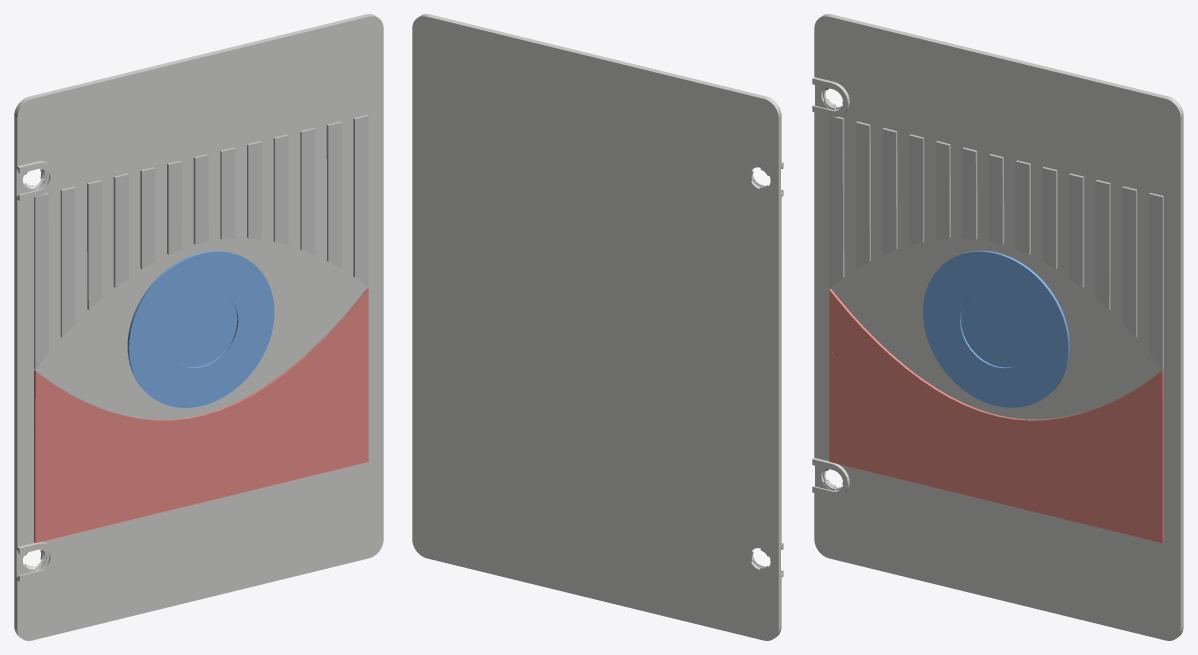
Rendered from a5_only_cover_v3.glb.
The picture shows the model from 3 angles, left to right: view 1: azimuth 30°, elevation 25°; view 2: azimuth 150°, elevation 25°; view 3: azimuth 330°, elevation 25°; orthographic projection.
Visible parts, largest first — view 1: Body1 (1).001, Body13, Body16, Body15, Body4 (1).001, Body11, Body8, Body1 (4), Body12, Body5, Body7, Body3 (1).001 (+4 smaller); view 2: Body1 (1).001; view 3: Body1 (1).001, Body13, Body16, Body4 (1).001, Body15, Body8, Body11, Body1 (4), Body12, Body7, Body5, Body14 (+4 smaller).
Boxes of the visible parts, bbox=[...] form: Body1 (1).001: bbox=[14, 14, 383, 640]; Body13: bbox=[34, 288, 368, 542]; Body16: bbox=[127, 250, 274, 407]; Body15: bbox=[353, 115, 368, 288]; Body4 (1).001: bbox=[34, 193, 48, 369]; Body11: bbox=[60, 186, 75, 337]; Body8: bbox=[326, 121, 341, 268]; Body1 (4): bbox=[300, 128, 315, 254]; Body12: bbox=[87, 180, 102, 309]; Body5: bbox=[113, 173, 128, 287]; Body7: bbox=[273, 134, 288, 245]; Body3 (1).001: bbox=[140, 167, 155, 268]; Body1 (1).001: bbox=[412, 14, 783, 640]; Body1 (1).001: bbox=[812, 14, 1183, 640]; Body13: bbox=[829, 289, 1163, 542]; Body16: bbox=[923, 250, 1069, 407]; Body4 (1).001: bbox=[829, 116, 844, 288]; Body15: bbox=[1149, 193, 1163, 369]; Body8: bbox=[1122, 186, 1137, 337]; Body11: bbox=[856, 121, 870, 268]; Body1 (4): bbox=[1095, 180, 1110, 309]; Body12: bbox=[882, 128, 897, 254]; Body7: bbox=[1069, 173, 1084, 287]; Body5: bbox=[909, 134, 924, 245]; Body14: bbox=[1042, 167, 1057, 268].
Bounding box in the file's own units: 0.15 × 0.212 × 0.00369.
